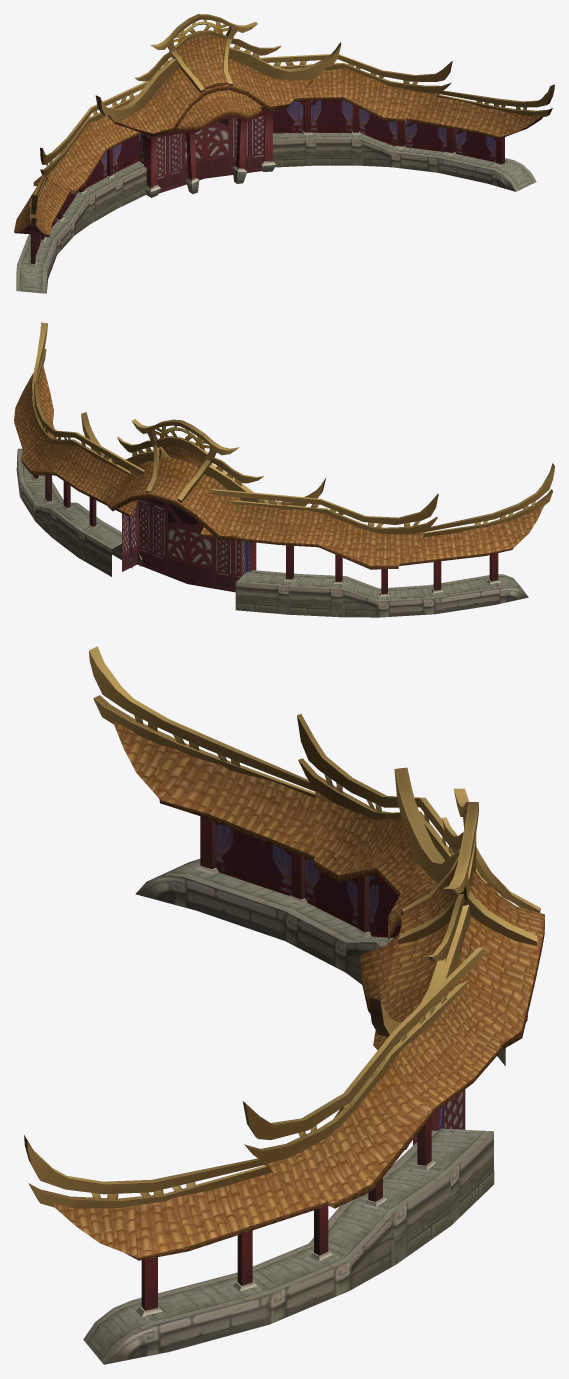
The model's file is bx_building_004.FBX.
3 renders of one model, top to bottom at view 1: azimuth 30°, elevation 25°; view 2: azimuth 150°, elevation 25°; view 3: azimuth 270°, elevation 25°, orthographic. The views are drawn at different scales.
Parts seen in each view (by area): view 1: bx_building_004; view 2: bx_building_004; view 3: bx_building_004.
Part boxes in pixels (bbox=[...]): bx_building_004: bbox=[14, 14, 554, 293]; bx_building_004: bbox=[14, 322, 554, 617]; bx_building_004: bbox=[24, 646, 544, 1364].
Size of the model in its own units: 2324 by 699 by 1034.
